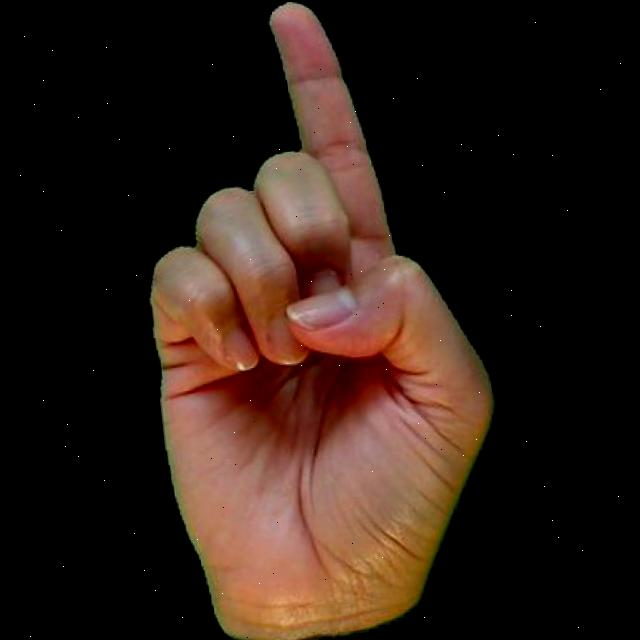d: (92, 0, 517, 640)
